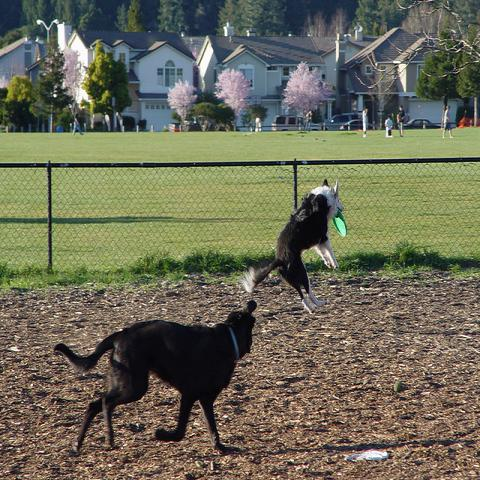car: (271, 115, 321, 131), (318, 114, 360, 132), (340, 119, 377, 130), (404, 118, 440, 128), (174, 125, 179, 132)
truck: (271, 114, 305, 131), (183, 116, 218, 132)
